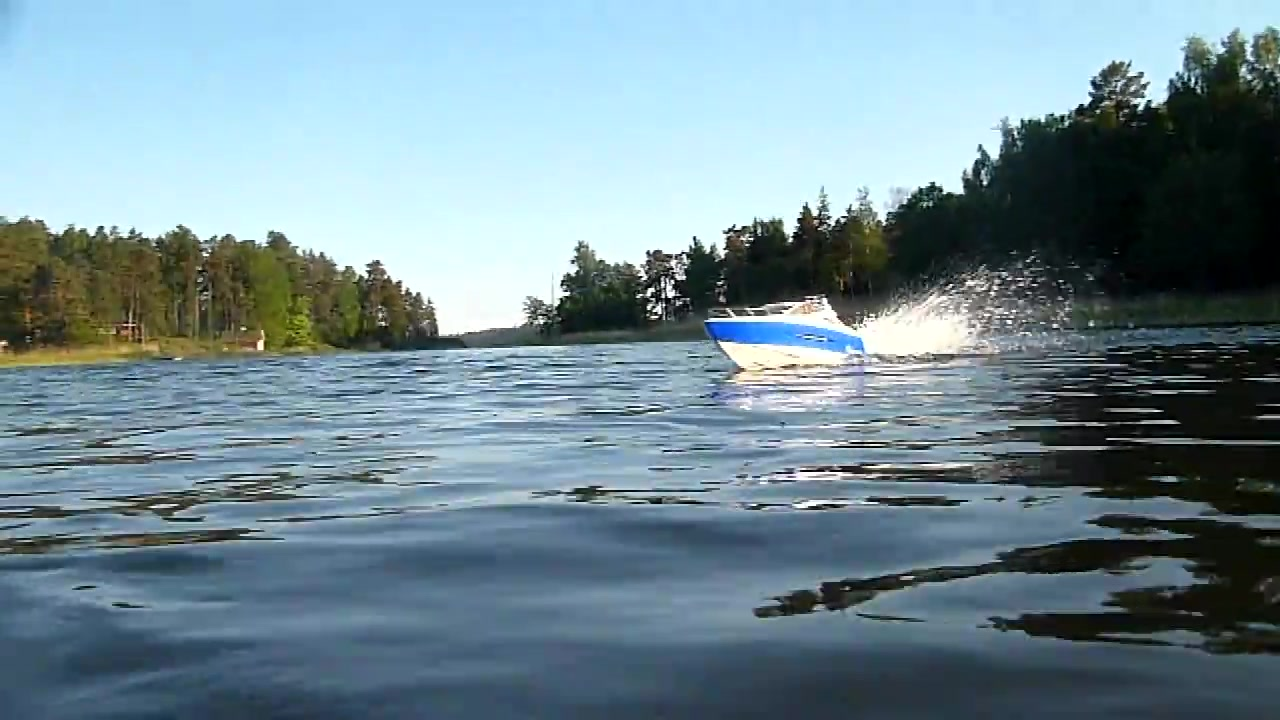boat: (708, 291, 872, 376)
